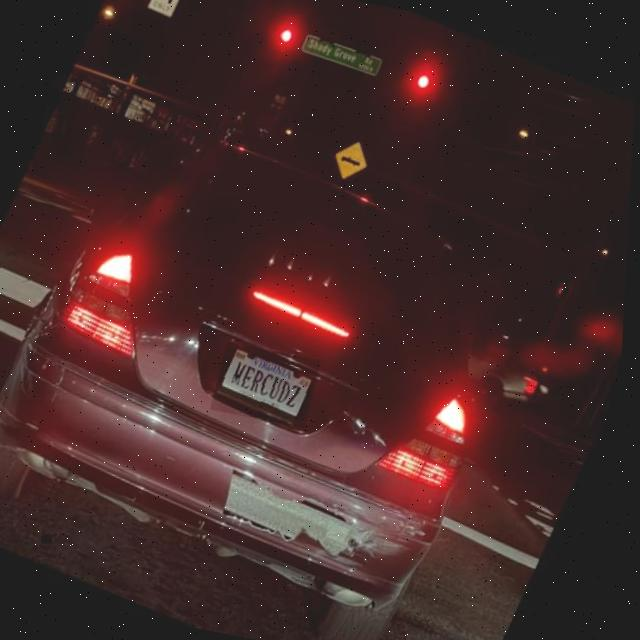LicensePlate: (219, 345, 321, 427)
